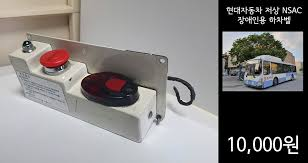bell: (81, 70, 141, 108)
